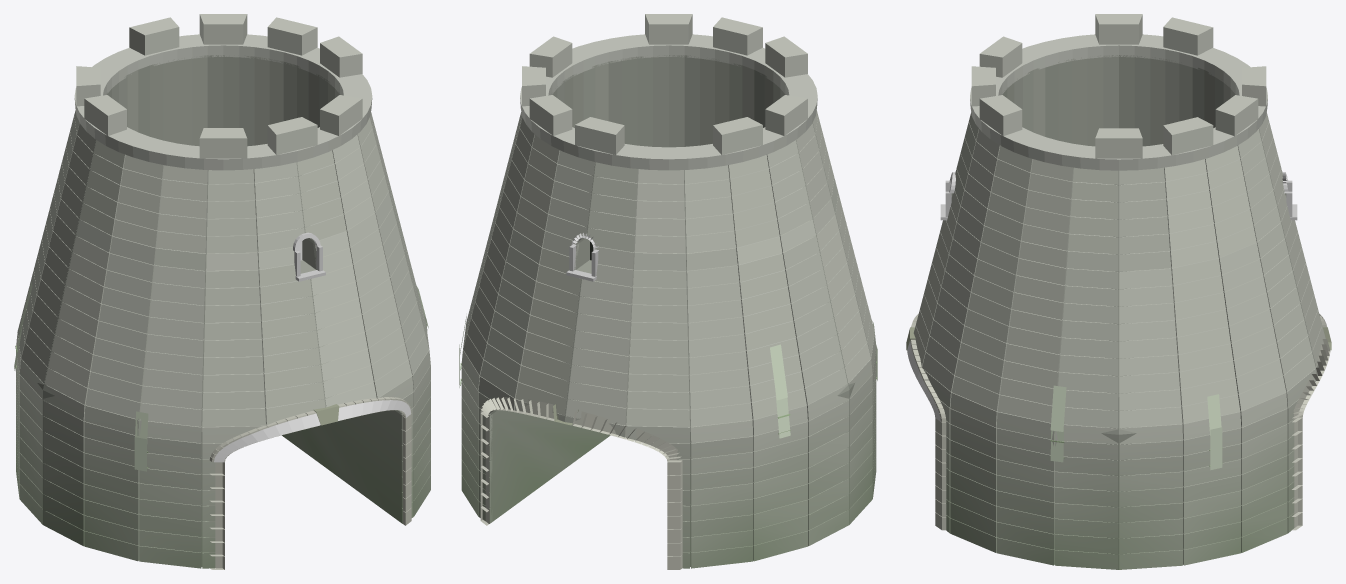
The model's file is watchtower.glb.
The picture shows the model from 3 angles, left to right: view 1: azimuth 30°, elevation 25°; view 2: azimuth 150°, elevation 25°; view 3: azimuth 270°, elevation 25°; orthographic projection.
Visible parts, largest first — view 1: watchtower_drum_concrete, watchtower_drum_jungle, watchtower_crenellations_nine_of_twelve, watchtower_crown_cornice, watchtower_back_arch_voussoirs, watchtower_portal_lamp_arches, watchtower_ivy_strands, watchtower_back_arched_window; view 2: watchtower_drum_concrete, watchtower_drum_jungle, watchtower_crenellations_nine_of_twelve, watchtower_crown_cornice, watchtower_front_arch_voussoirs, watchtower_ivy_strands, watchtower_front_arched_window; view 3: watchtower_drum_concrete, watchtower_drum_jungle, watchtower_crenellations_nine_of_twelve, watchtower_crown_cornice, watchtower_ivy_strands, watchtower_front_arch_voussoirs, watchtower_back_arch_voussoirs.
Part boxes in pixels (x1,y1,x2,y2): watchtower_drum_concrete: [17, 55, 429, 431]; watchtower_drum_jungle: [16, 332, 430, 568]; watchtower_crenellations_nine_of_twelve: [76, 14, 362, 158]; watchtower_crown_cornice: [74, 34, 372, 170]; watchtower_back_arch_voussoirs: [209, 397, 411, 569]; watchtower_portal_lamp_arches: [214, 400, 410, 462]; watchtower_ivy_strands: [14, 282, 428, 471]; watchtower_back_arched_window: [293, 232, 325, 281]; watchtower_drum_concrete: [463, 55, 874, 437]; watchtower_drum_jungle: [461, 333, 876, 568]; watchtower_crenellations_nine_of_twelve: [522, 14, 807, 154]; watchtower_crown_cornice: [520, 34, 817, 170]; watchtower_front_arch_voussoirs: [480, 397, 682, 569]; watchtower_ivy_strands: [459, 316, 877, 438]; watchtower_front_arched_window: [566, 233, 598, 281]; watchtower_drum_concrete: [913, 55, 1325, 434]; watchtower_drum_jungle: [924, 360, 1319, 569]; watchtower_crenellations_nine_of_twelve: [971, 14, 1266, 158]; watchtower_crown_cornice: [970, 34, 1267, 170]; watchtower_ivy_strands: [1050, 385, 1222, 470]; watchtower_front_arch_voussoirs: [1292, 314, 1330, 530]; watchtower_back_arch_voussoirs: [910, 314, 946, 530].
Bounding box in the file's own units: 28 × 30 × 28.5.
